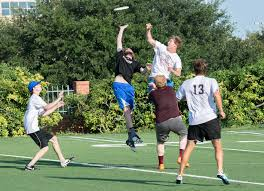disc: (112, 4, 130, 12)
